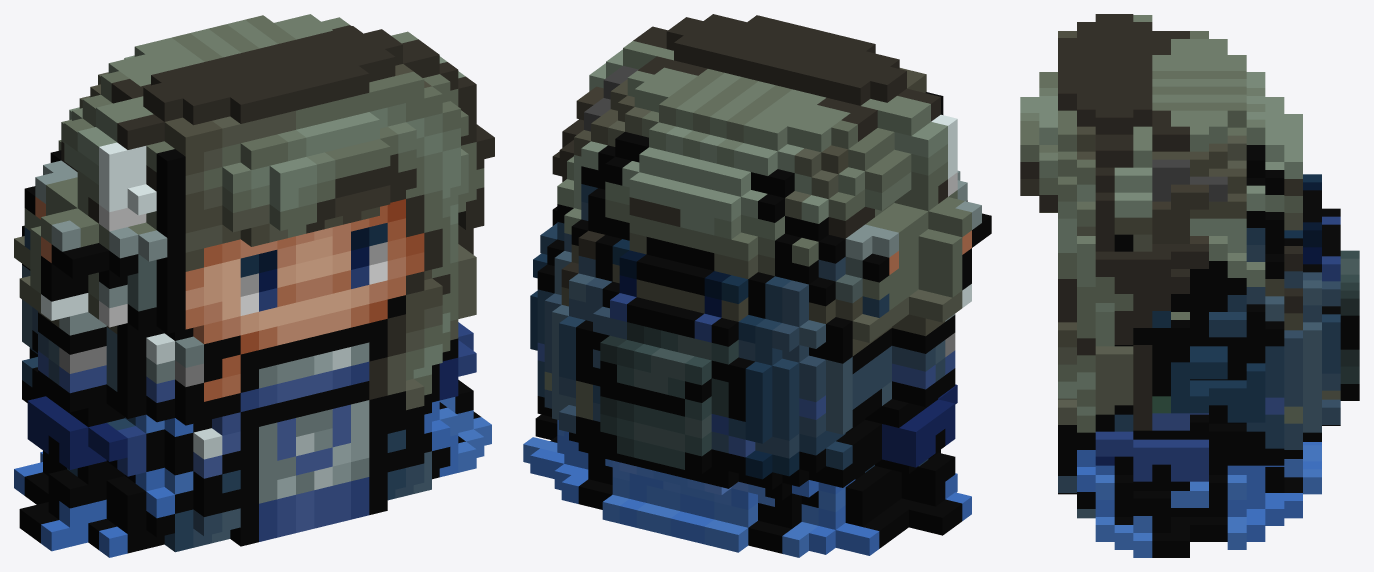
File: Icon_211_02.obj
The picture shows the model from 3 angles, left to right: view 1: azimuth 30°, elevation 25°; view 2: azimuth 150°, elevation 25°; view 3: azimuth 270°, elevation 25°; orthographic projection. The views are drawn at different scales.
Size of the model in its own units: 2.4 by 2.3 by 1.8.
